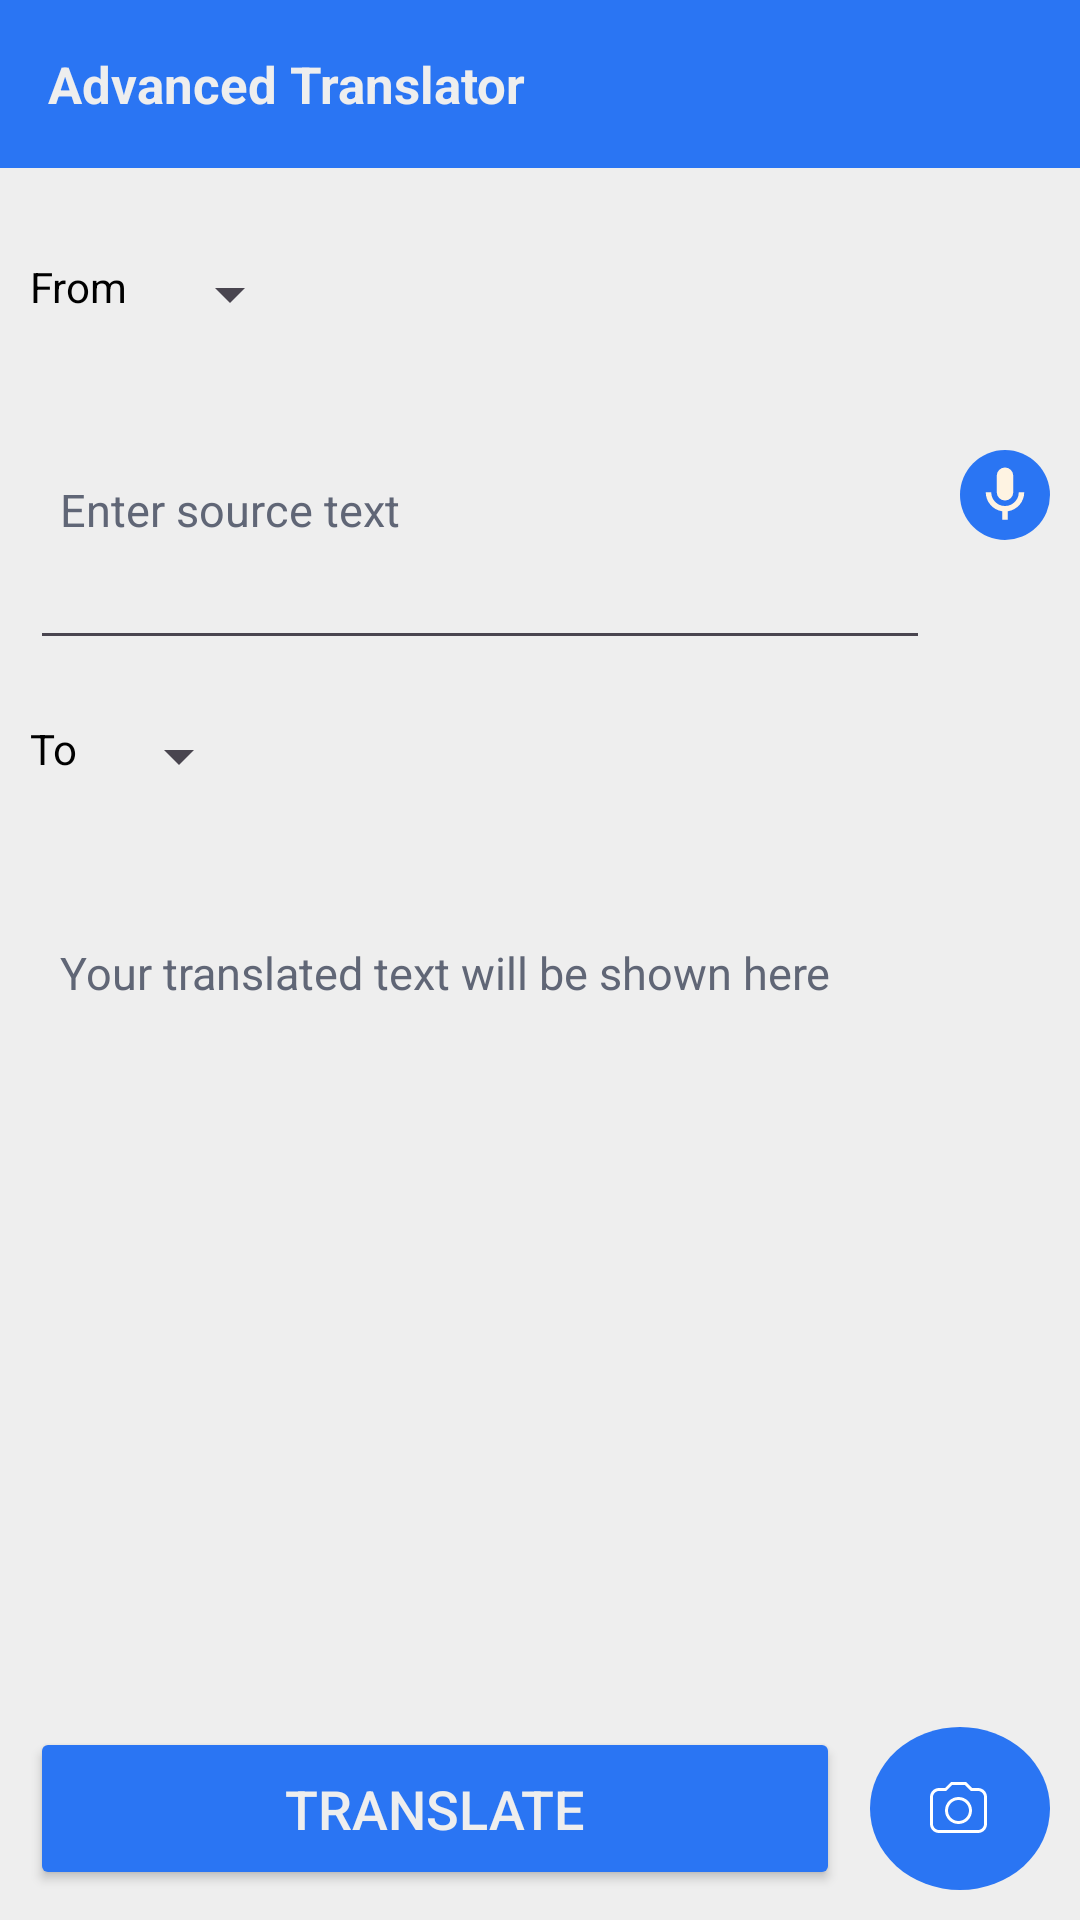

Where to tap for icons on this 1080*1920 app screen, as (x=x, y=y):
camera: (x=960, y=1808)
microphone: (x=1005, y=495)
